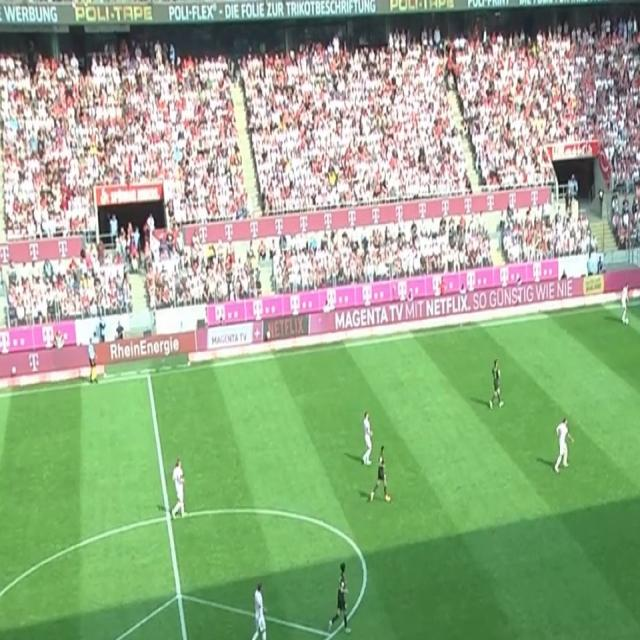ball: (624, 315, 630, 326)
